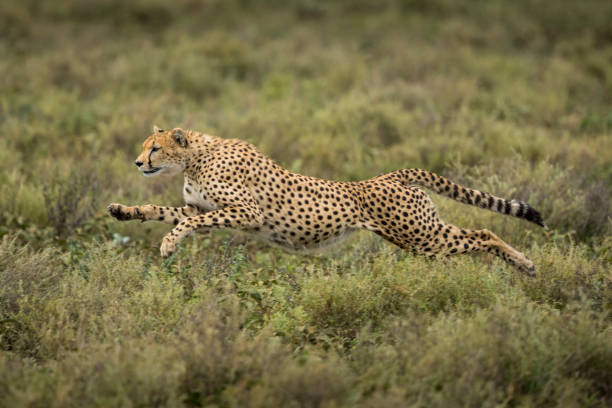cheetah: (128, 120, 199, 187)
